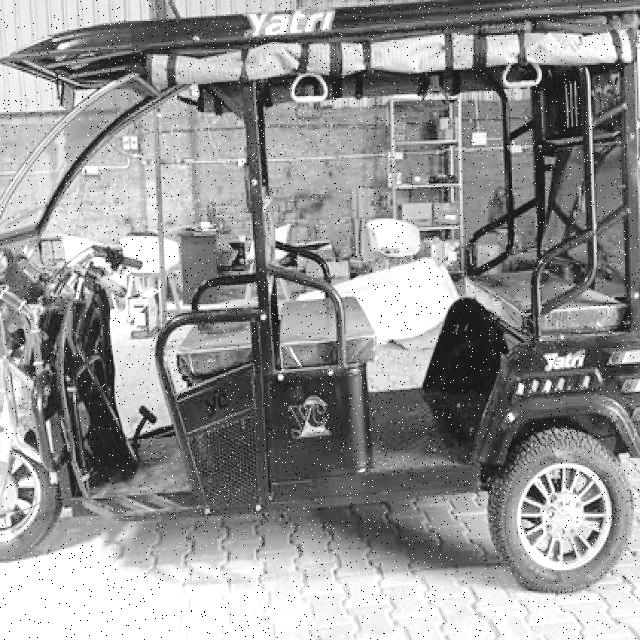Toto: (0, 0, 640, 616)
